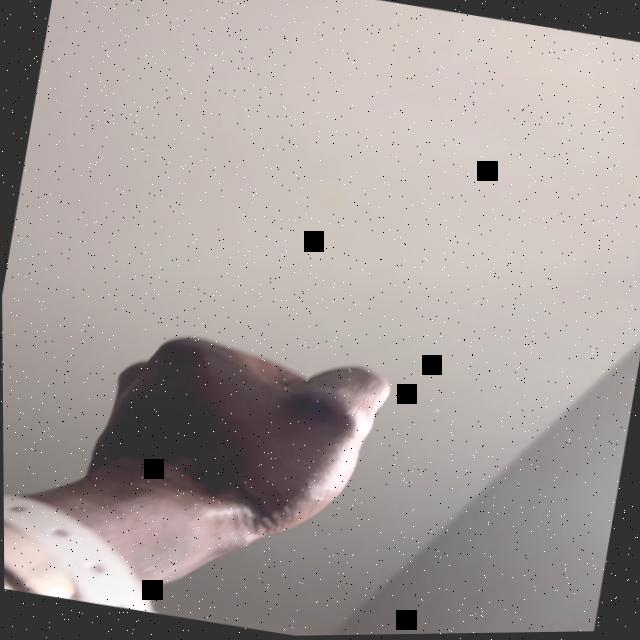Rock: (76, 320, 392, 576)
